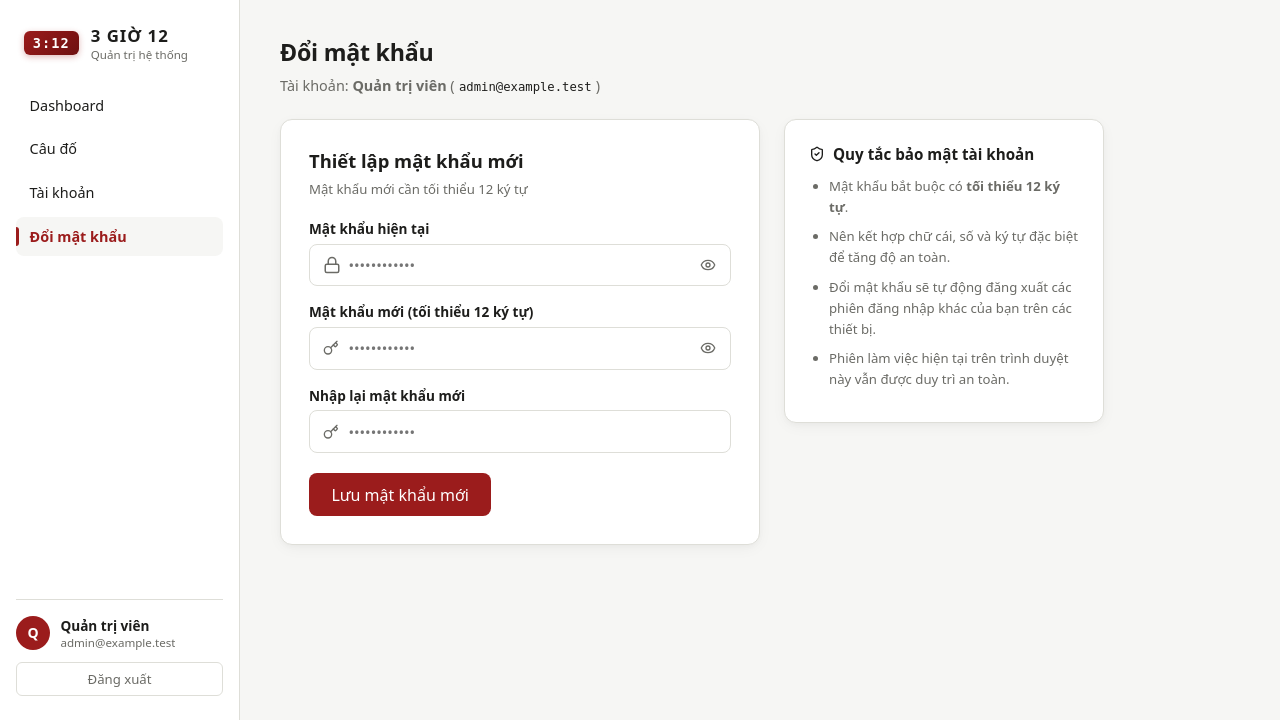
Test: ProfilePage: reports validation errors for mismatched passwords or short password
Expected: the heading "Đổi mật khẩu" is shown, [280, 36, 434, 68]
Type "matkhaucu12345" into the password field labelled "Mật khẩu hiện tại" at (520, 265), box [309, 244, 731, 286]
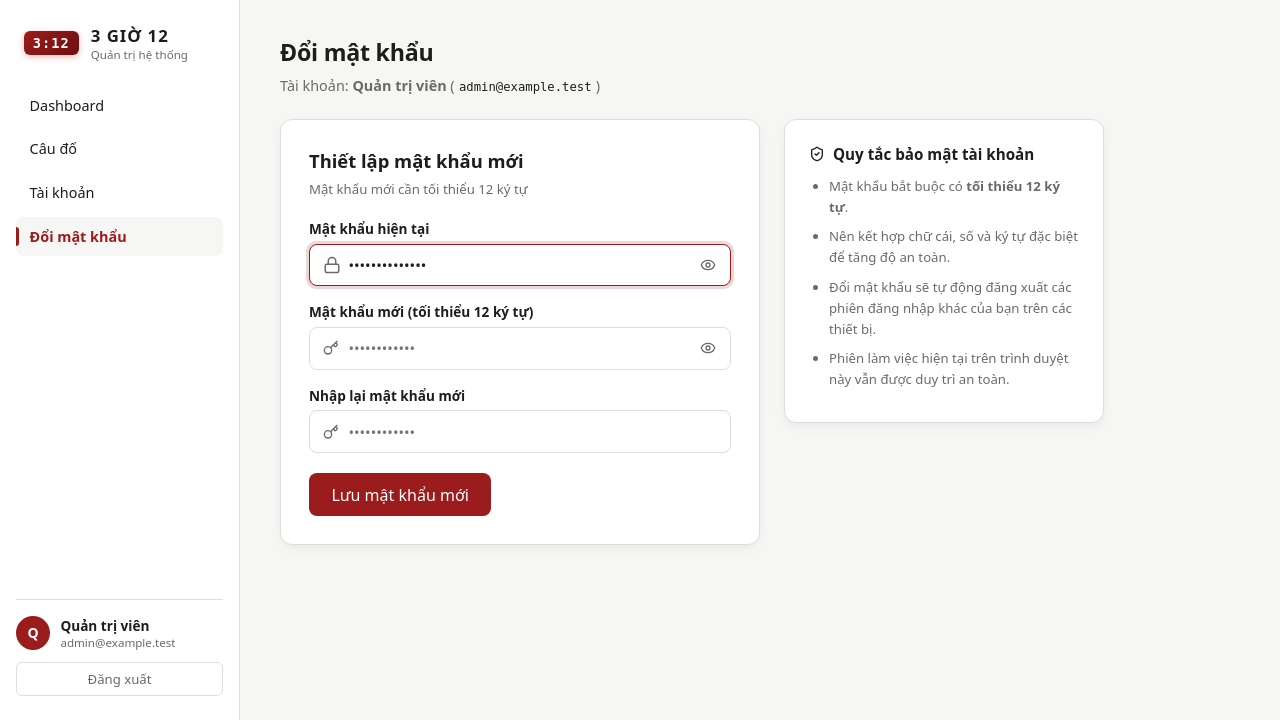
Type "matkhaumoi12345" into the password field labelled "Mật khẩu mới (tối thiểu 12 ký tự)" at (520, 348), box [309, 327, 731, 370]
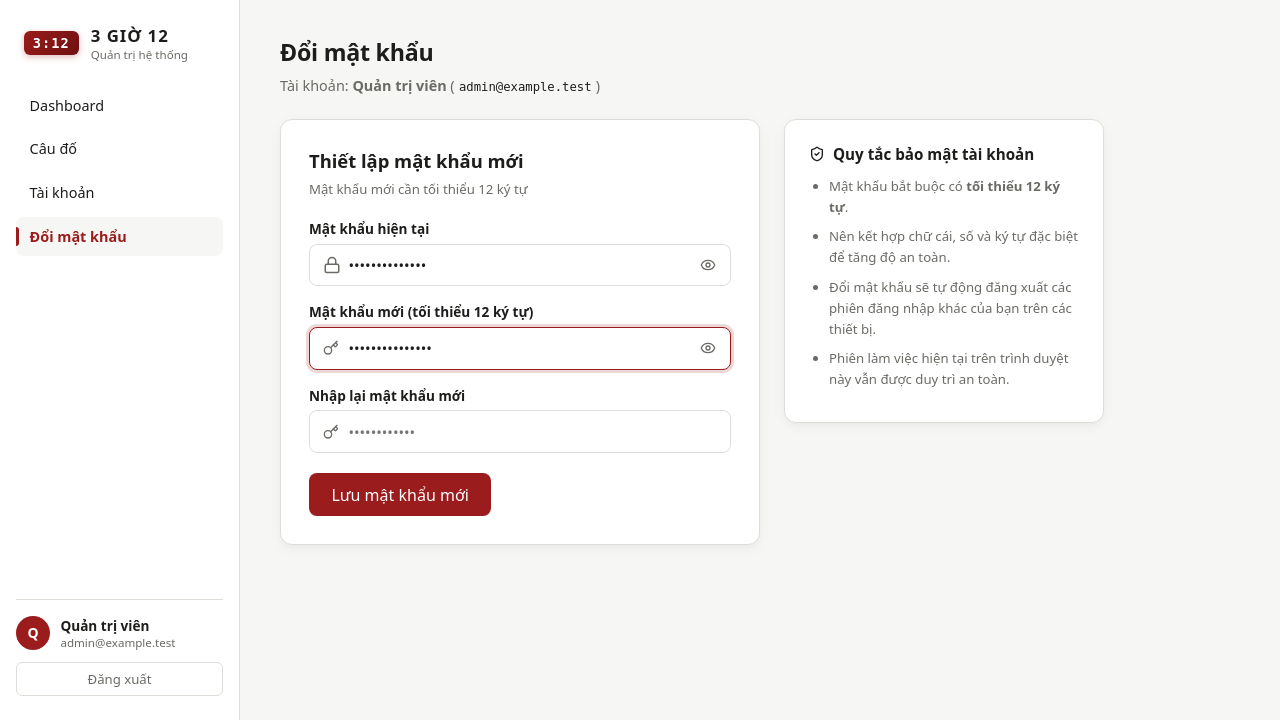
Type "khong-khop-nhau" into the password field labelled "Nhập lại mật khẩu mới" at (520, 432), box [309, 410, 731, 453]
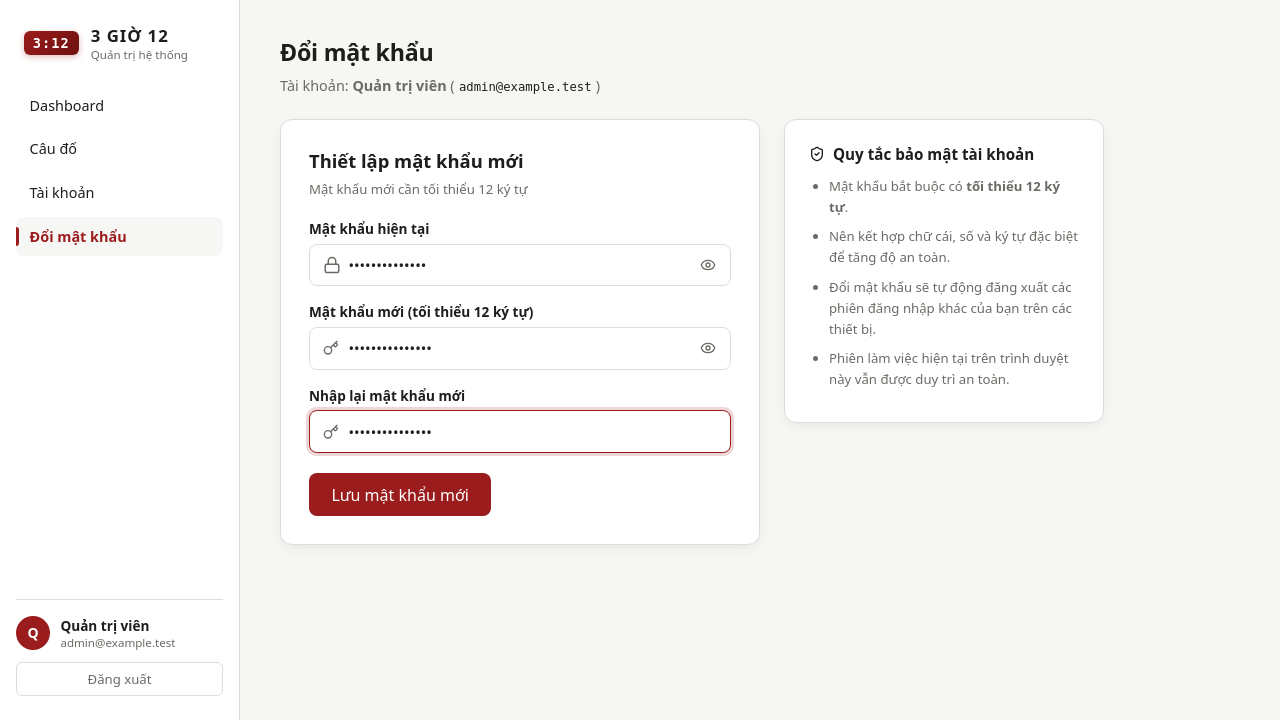
Click the button "Lưu mật khẩu mới" at (400, 494), box [309, 473, 491, 516]
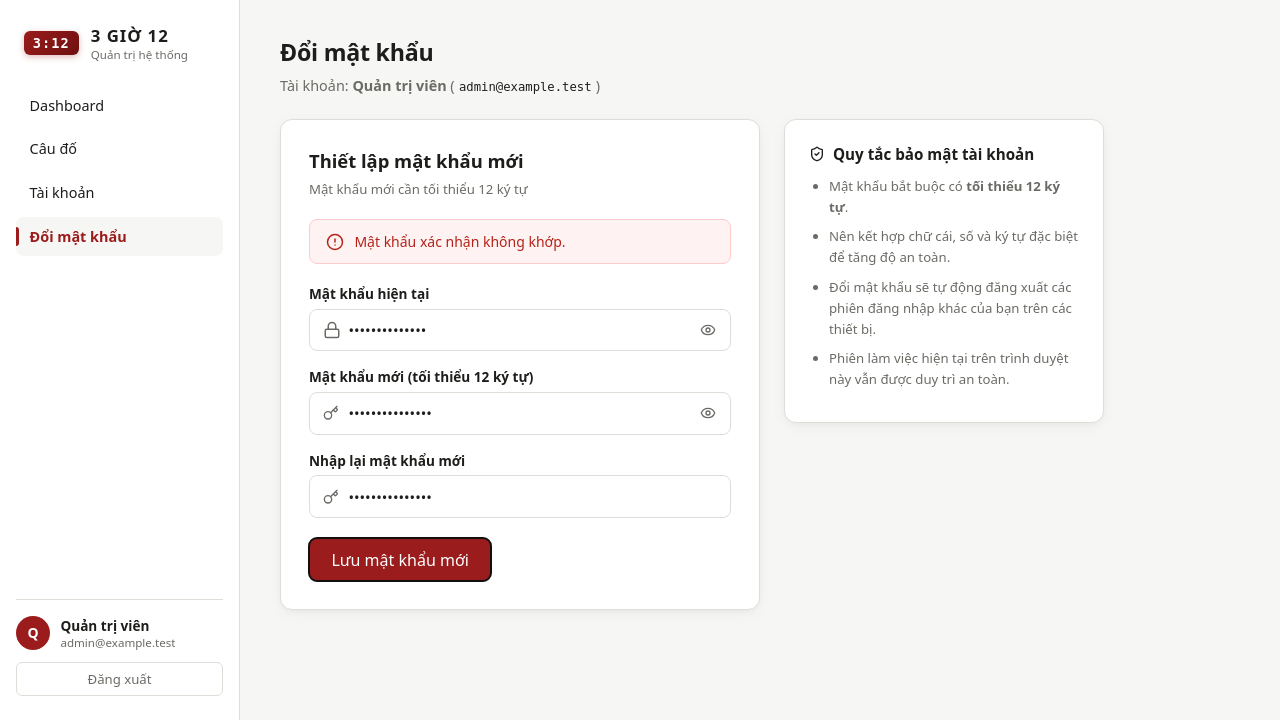
Result: the message reads "Mật khẩu xác nhận không khớp." at [354, 232, 566, 251]
